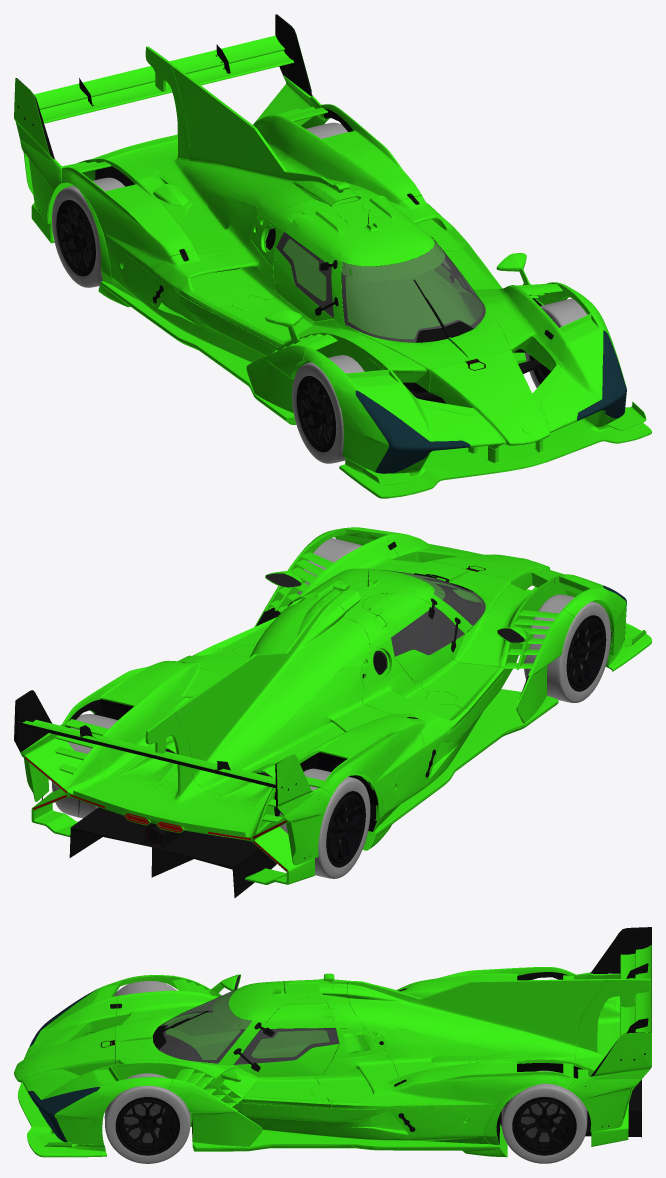
The model's file is lamborghini-sc63.obj.
3 views of the same model, one above another, from view 1: azimuth 30°, elevation 25°; view 2: azimuth 150°, elevation 25°; view 3: azimuth 270°, elevation 25° (orthographic). The views are drawn at different scales.
Visible parts, largest first — view 1: BODY, GLASS, WHEEL_RF, WHEEL_RR, WHEEL_LF; view 2: BODY, WHEEL_RF, WHEEL_RR, GLASS, WHEEL_LR, WHEEL_LF; view 3: BODY, GLASS, WHEEL_LF, WHEEL_LR, WHEEL_RF.
Boxes of the visible parts, x1=… form: BODY: x1=14, y1=14, x2=651, y2=498; GLASS: x1=276, y1=232, x2=626, y2=473; WHEEL_RF: x1=292, y1=355, x2=364, y2=463; WHEEL_RR: x1=52, y1=177, x2=124, y2=287; WHEEL_LF: x1=525, y1=298, x2=587, y2=387; BODY: x1=14, y1=527, x2=651, y2=897; WHEEL_RF: x1=524, y1=594, x2=610, y2=702; WHEEL_RR: x1=279, y1=768, x2=370, y2=878; GLASS: x1=380, y1=545, x2=626, y2=656; WHEEL_LR: x1=52, y1=714, x2=117, y2=818; WHEEL_LF: x1=298, y1=538, x2=362, y2=594; BODY: x1=14, y1=927, x2=651, y2=1157; GLASS: x1=28, y1=988, x2=339, y2=1142; WHEEL_LF: x1=104, y1=1073, x2=190, y2=1163; WHEEL_LR: x1=501, y1=1070, x2=587, y2=1163; WHEEL_RF: x1=114, y1=980, x2=176, y2=996.
Bounding box in the file's own units: 2.08 × 1.17 × 5.
